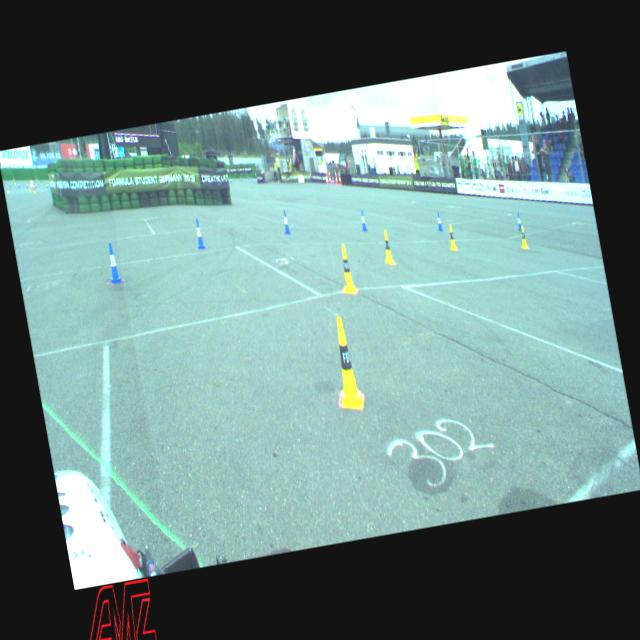blue_cone: (105, 242, 122, 284), (192, 218, 205, 248), (280, 210, 290, 234), (358, 209, 368, 231), (434, 212, 442, 232), (515, 212, 522, 230)
large_orange_cone: (338, 170, 342, 186), (334, 170, 338, 184), (328, 170, 332, 183), (325, 174, 328, 183), (331, 174, 334, 183)
yellow_cone: (326, 316, 364, 410), (336, 243, 356, 294), (380, 228, 394, 264), (446, 223, 456, 250), (518, 225, 528, 249)
